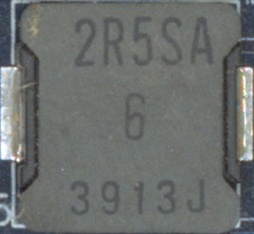Induktor: (12, 1, 237, 231)
